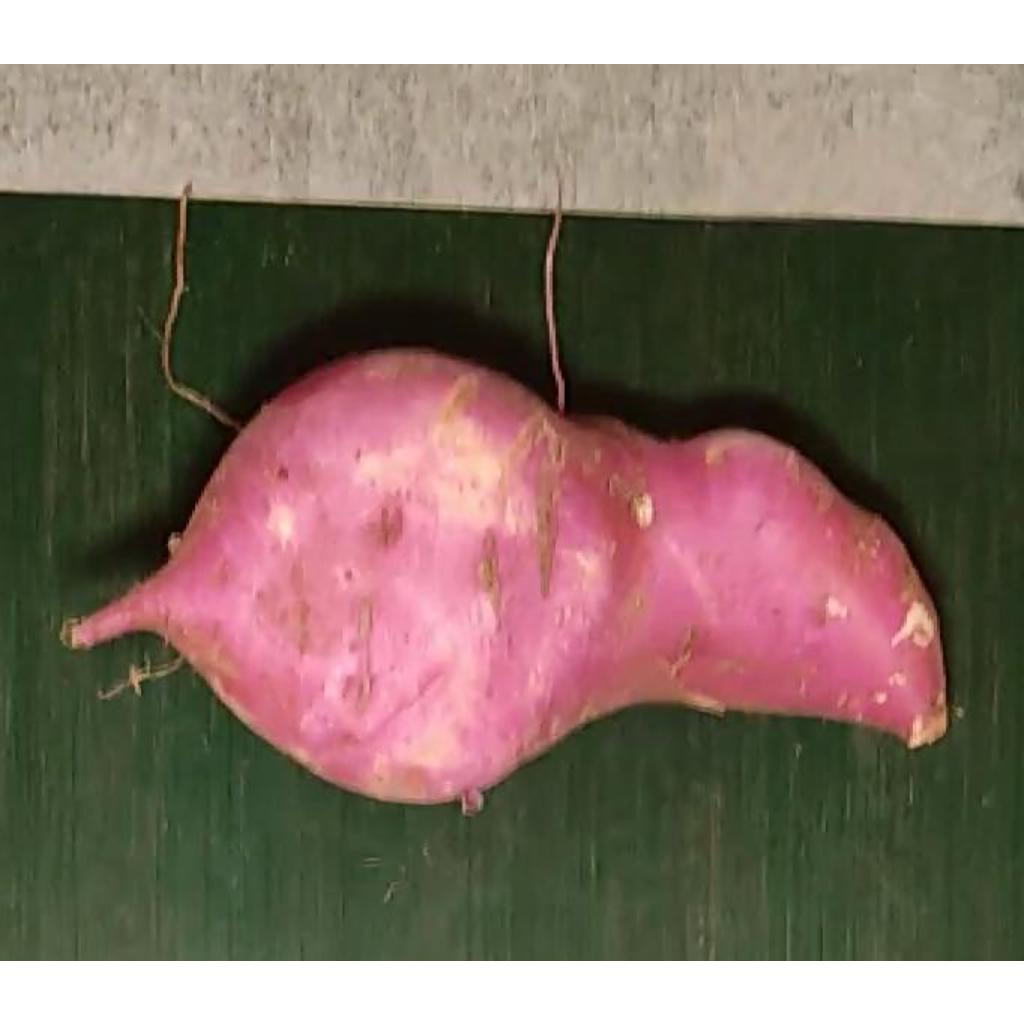Sweet Potato: (62, 348, 953, 815)
